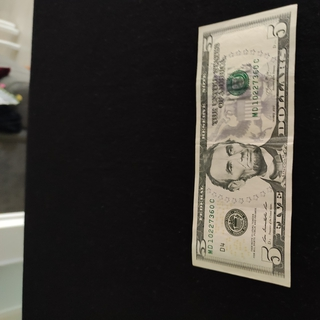5USDFront: (191, 4, 297, 289)
